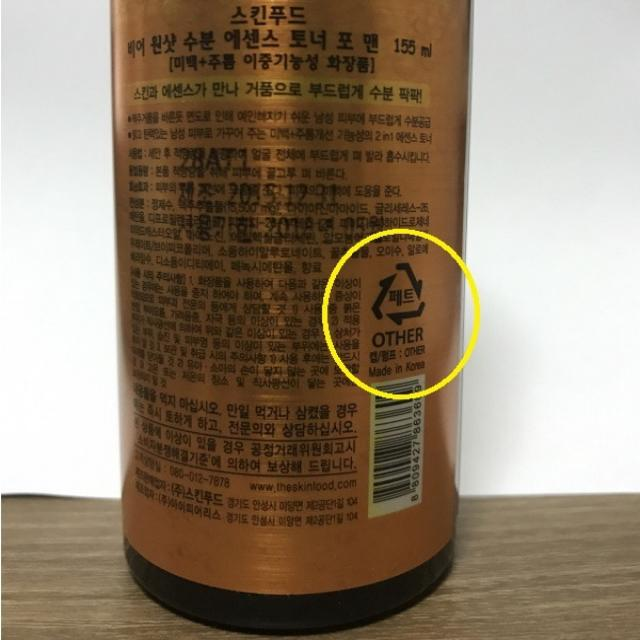PET: (369, 260, 430, 327)
